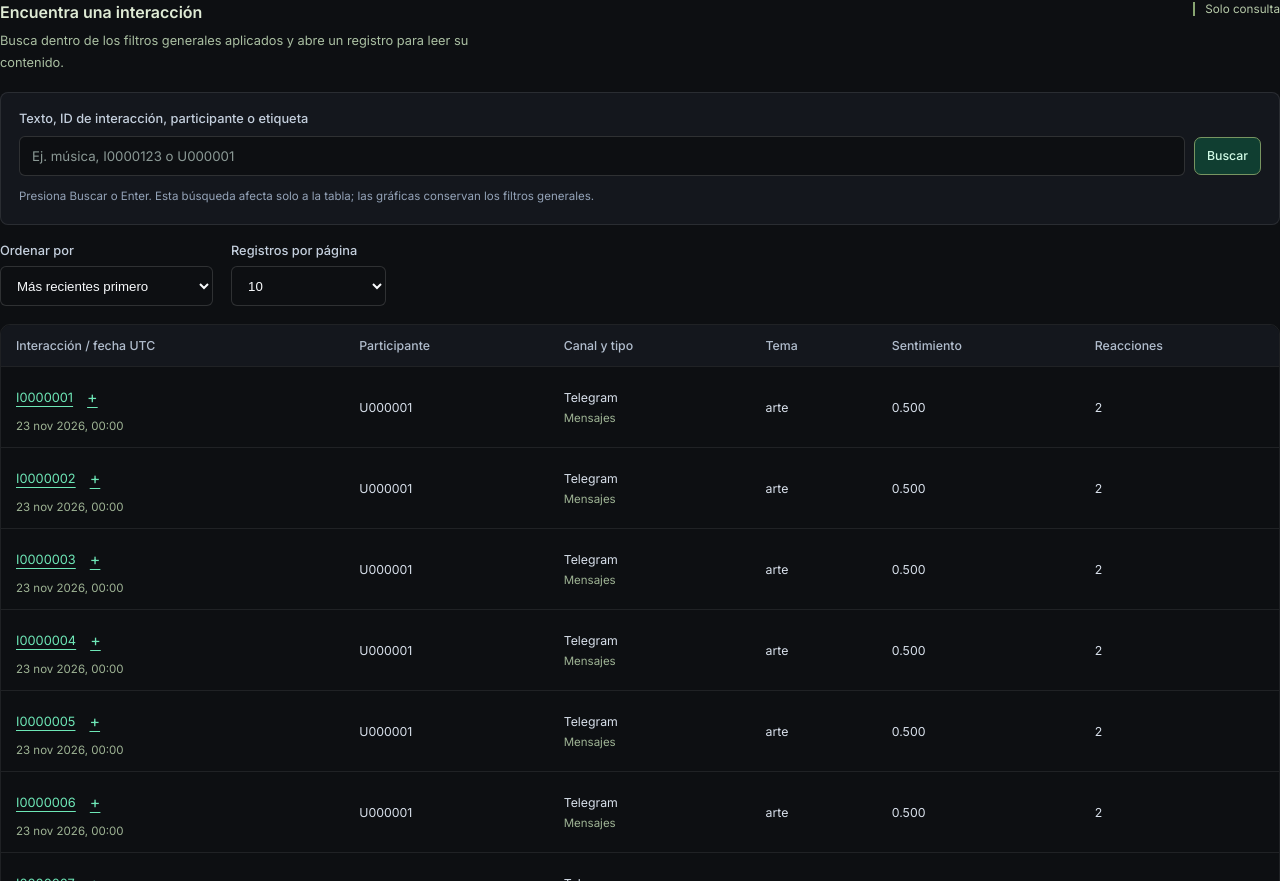
it: ordena, cambia tamaño, salta a una página y abre el contenido del registro sin escribir datos
Expected: the button "I0000001 +" is shown, [16,381,98,413]
Select "Más reacciones recibidas" in the dropdown labelled "Ordenar por" at point(106, 286), box [0,266,213,306]
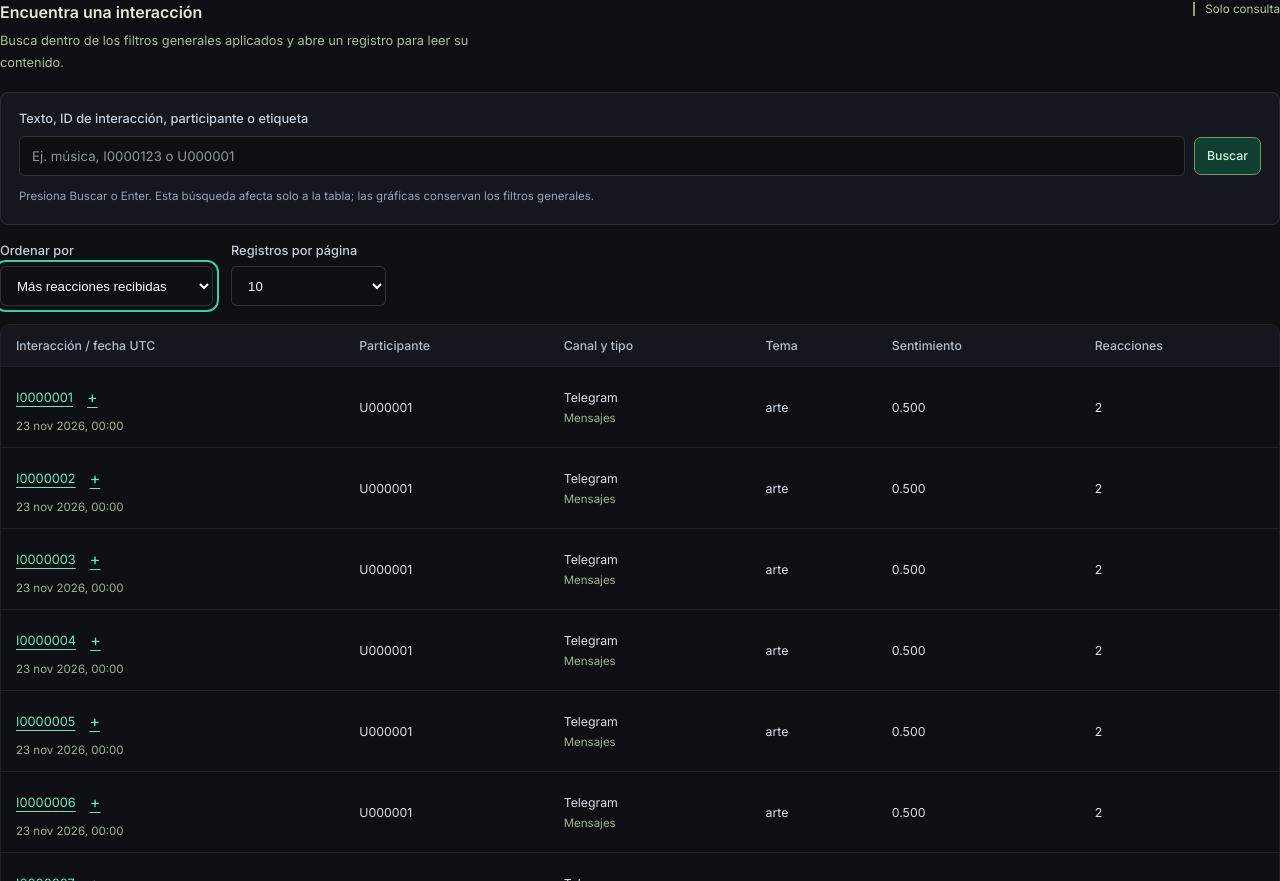
Select "25" in the dropdown labelled "Registros por página" at point(308, 286), box [231,266,386,306]
(page scrolled)
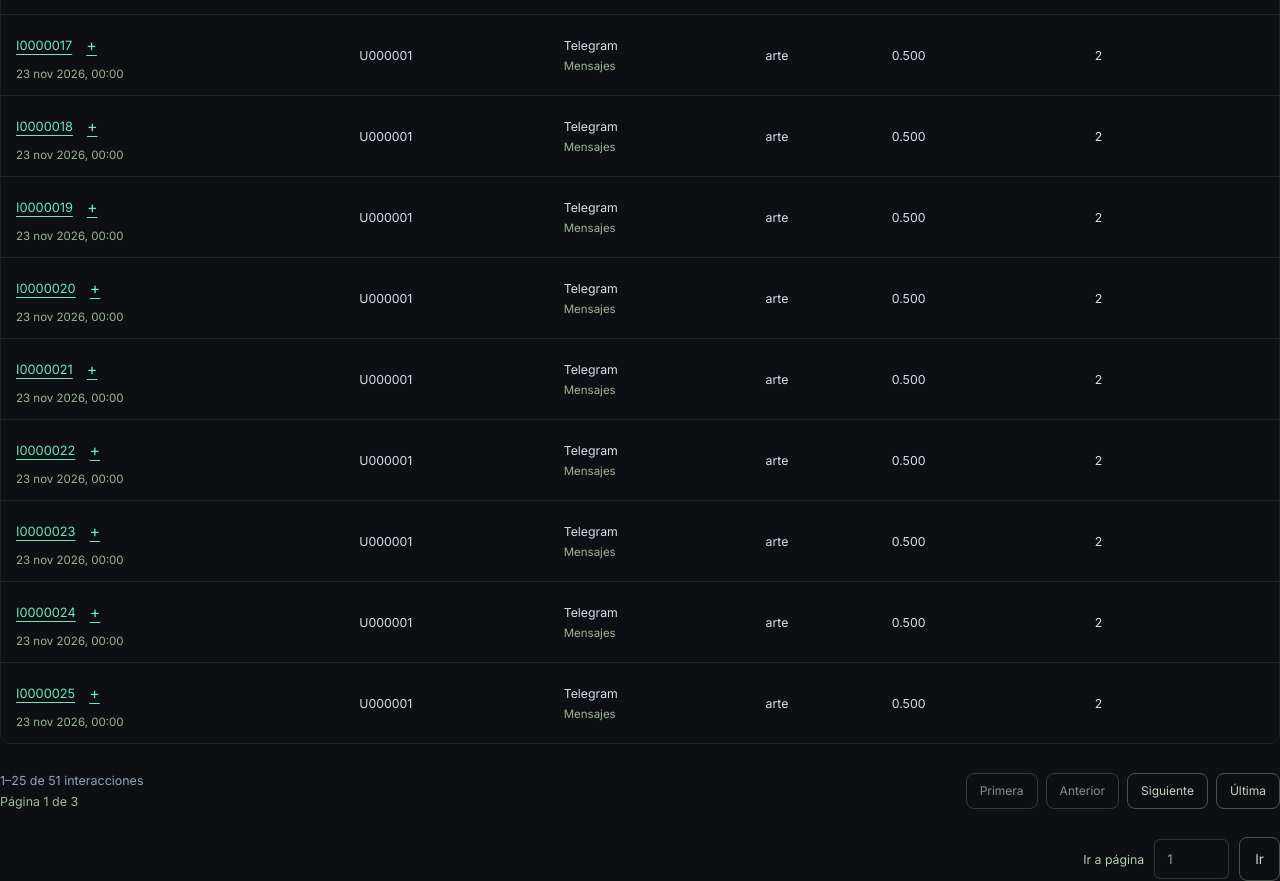
Now the button "I0000025 +" is shown, box [16,677,100,709]
Type "3" into the number field labelled "Ir a página" at point(1192, 859), box [1154,839,1229,879]
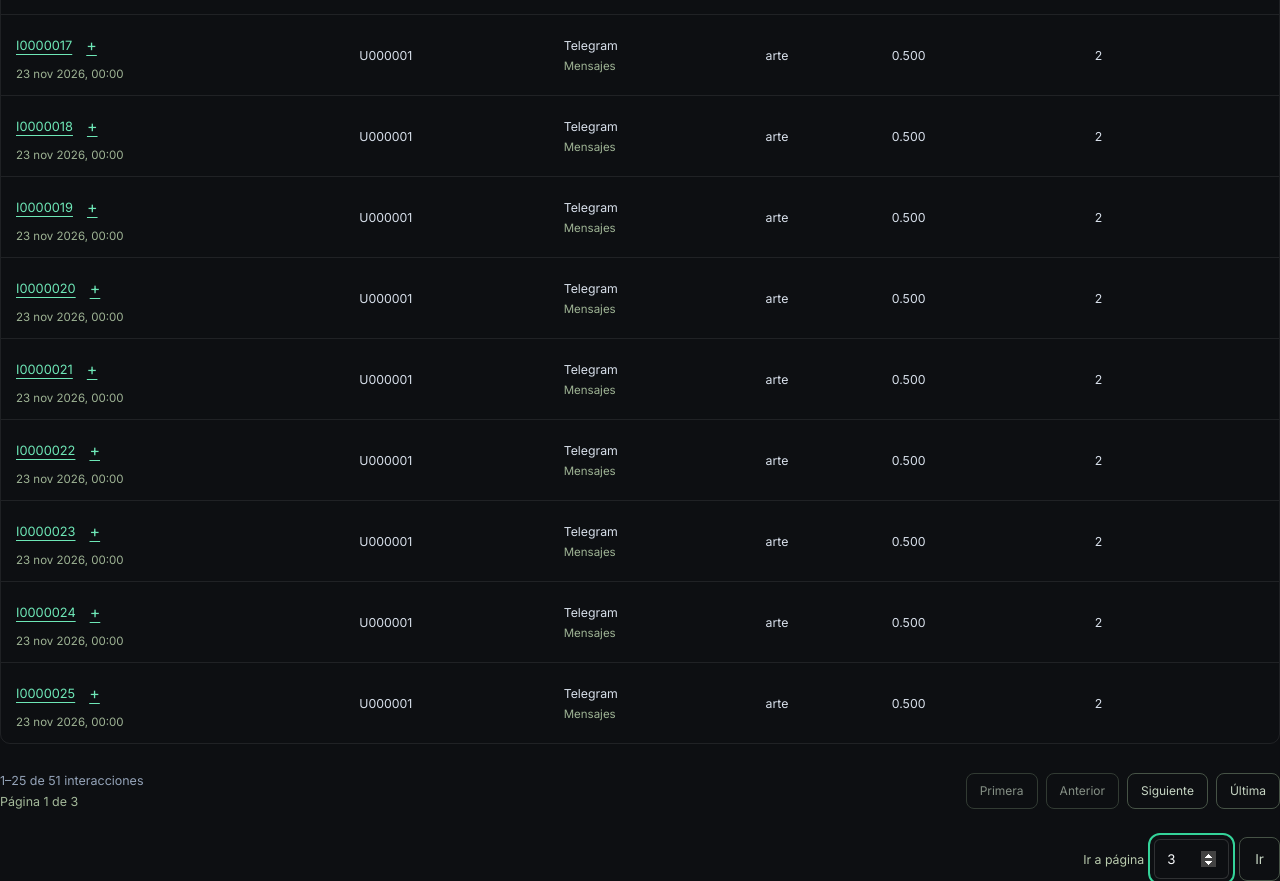
Click the button "Ir" at point(1260, 859), box [1239,837,1279,880]
(page scrolled)
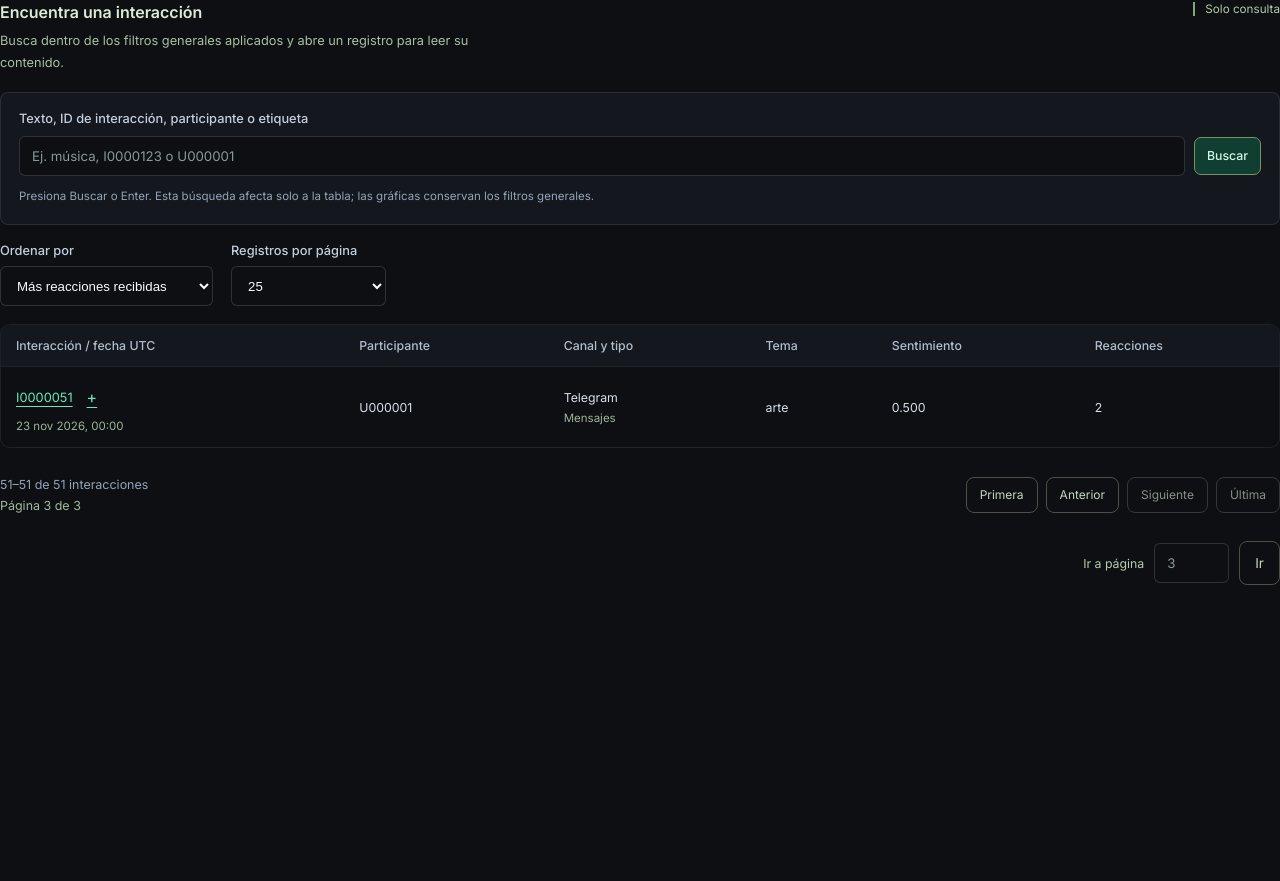
Now the button "I0000051 +" is shown
Click the button named "Ver detalle de I0000051" at point(57, 397), box [16,381,97,413]
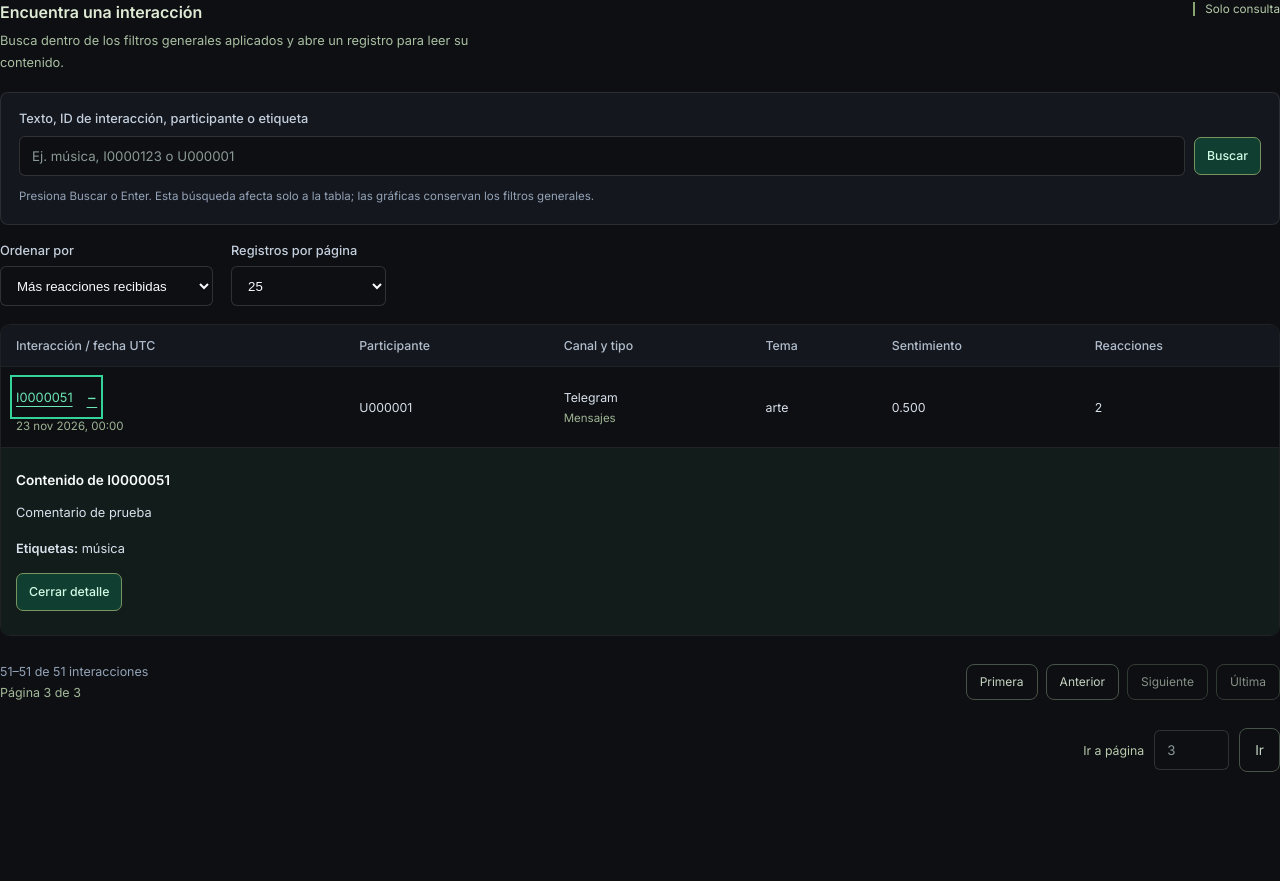
Now the text "Comentario de prueba" is shown, box [16,505,152,520]
Click the button "Cerrar detalle" at point(69, 592), box [16,572,122,610]
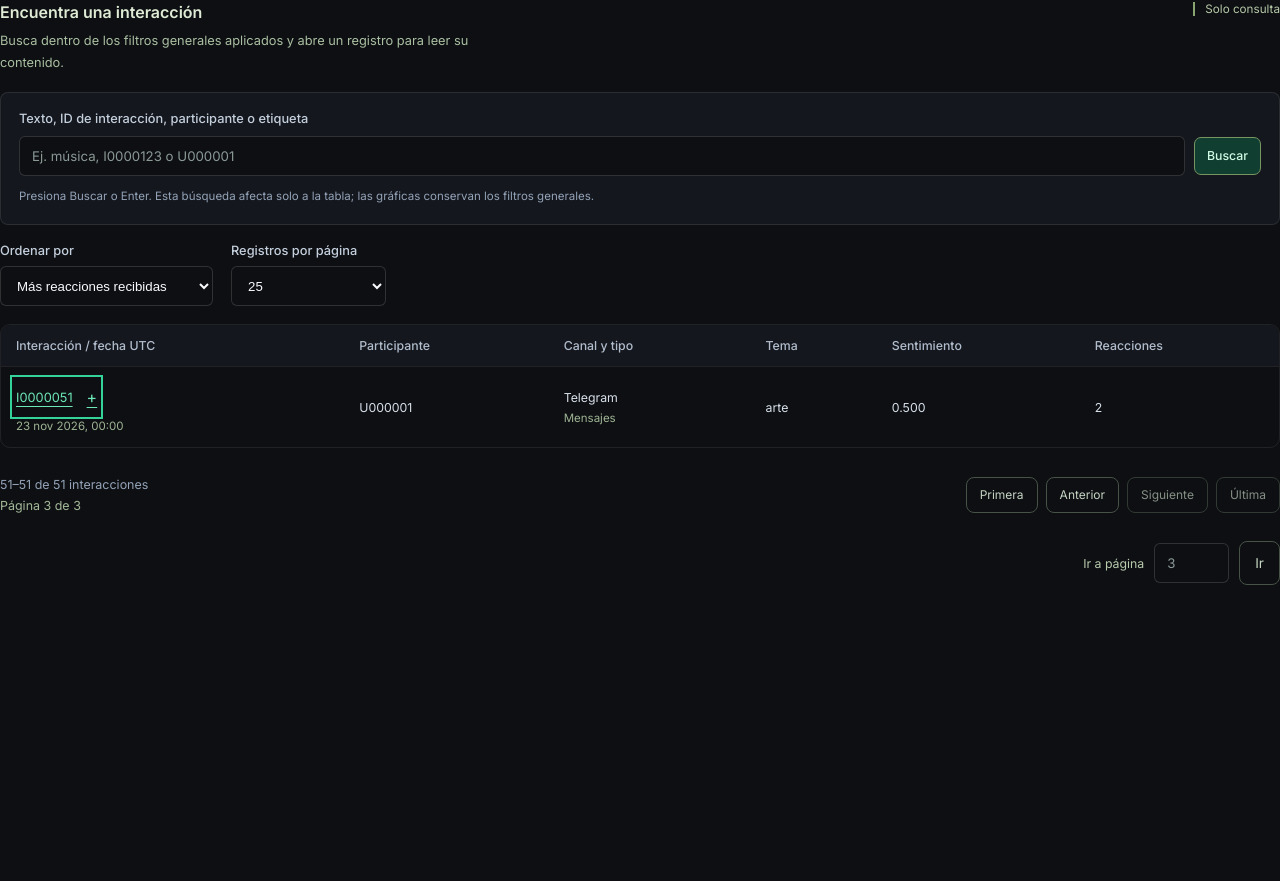
Now the text "Comentario de prueba" is gone
